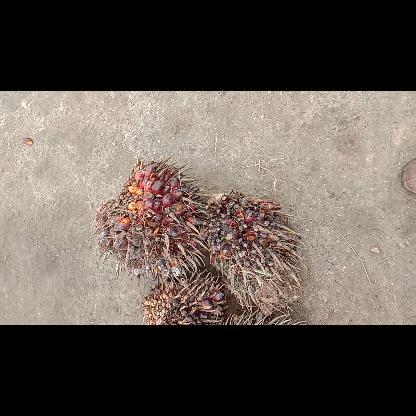TBS abnormal: (203, 192, 303, 310), (144, 266, 224, 324)
TBS masak: (95, 160, 201, 264)
